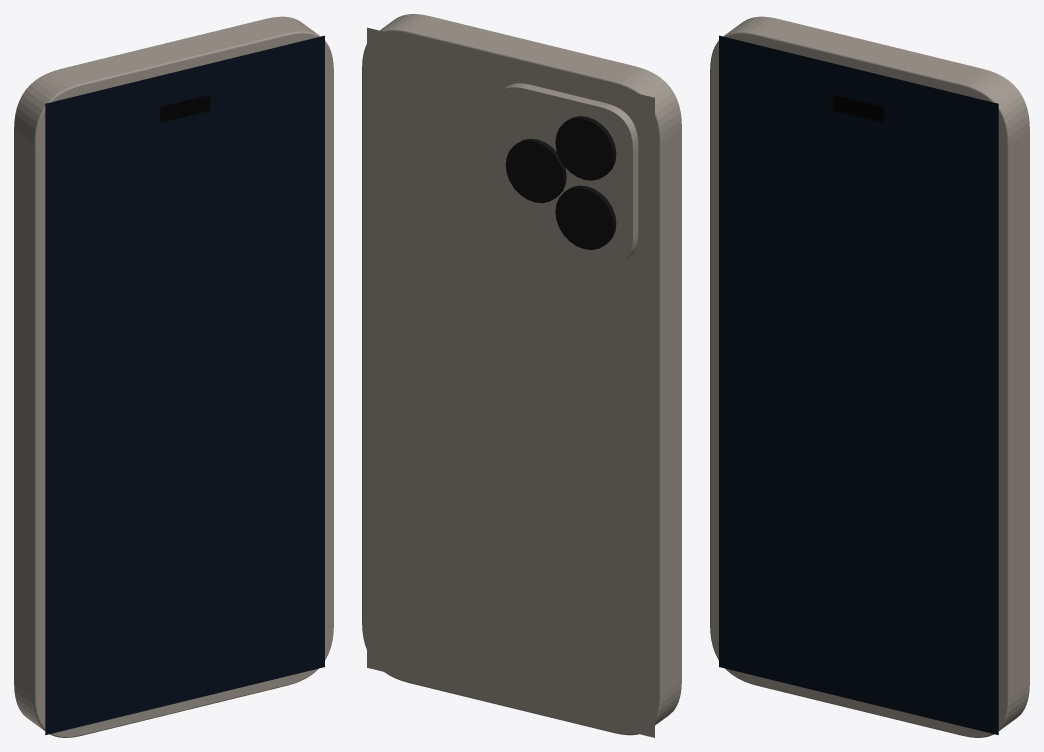
The model's file is iphone-16-pro.glb.
3 renders of one model, left to right at view 1: azimuth 30°, elevation 25°; view 2: azimuth 150°, elevation 25°; view 3: azimuth 330°, elevation 25°, orthographic.
Size of the model in its own units: 0.0723 by 0.1504 by 0.0129.
